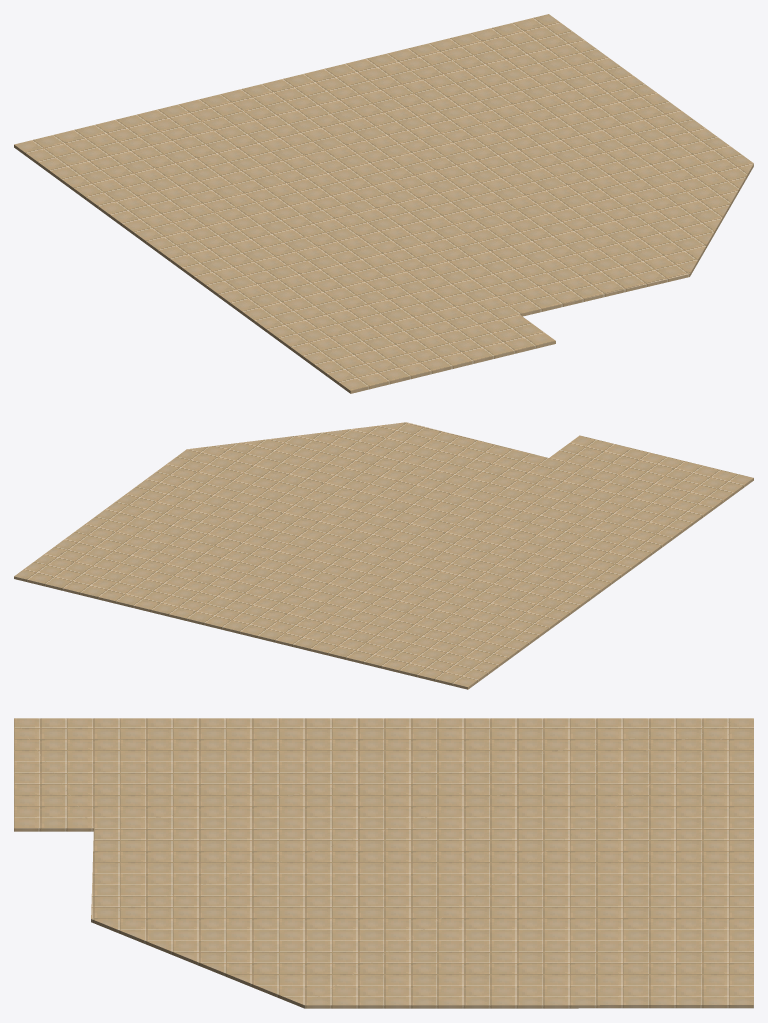
Rendered from KitchenFloor.fbx.
The picture shows the model from 3 angles, top to bottom: view 1: azimuth 30°, elevation 25°; view 2: azimuth 150°, elevation 25°; view 3: azimuth 270°, elevation 25°; orthographic projection. The views are drawn at different scales.
Parts seen in each view (by area): view 1: KitchenFloor; view 2: KitchenFloor; view 3: KitchenFloor.
Part boxes in pixels (x1,y1,x2,y2): KitchenFloor: [14, 14, 753, 393]; KitchenFloor: [14, 422, 753, 689]; KitchenFloor: [14, 718, 753, 1008].
Size of the model in its own units: 656 by 3.53 by 714.
1 material, 1 textured.
